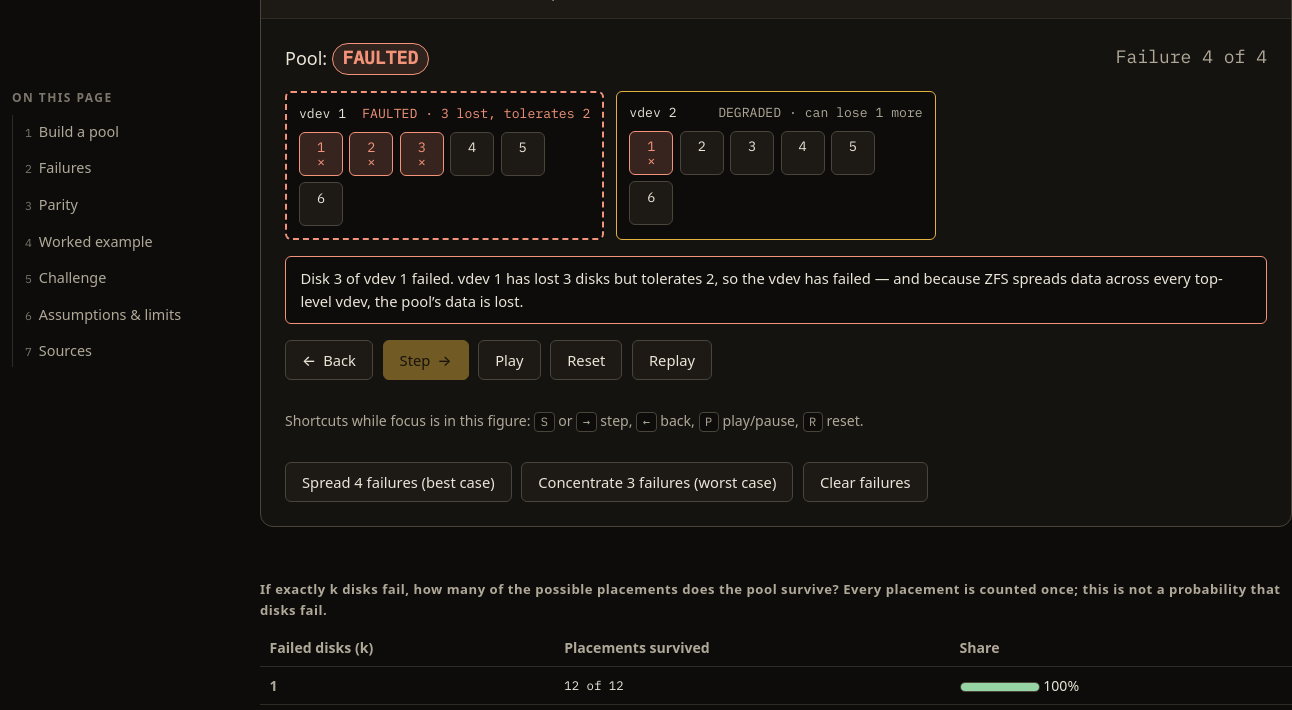
ZFS topology explorer › tracer: step, back, reset and replay through the failure order, with keyboard shortcuts
(page scrolled)
Expected: the text with test id "tracer-step" shows "4 of 4", top-left (1116, 43), bottom-right (1267, 75)
Expected: the text with test id "pool-state" reads "FAULTED", top-left (342, 46), bottom-right (418, 70)
Click the button "Reset" at (586, 360), box top-left (550, 340), bottom-right (622, 380)
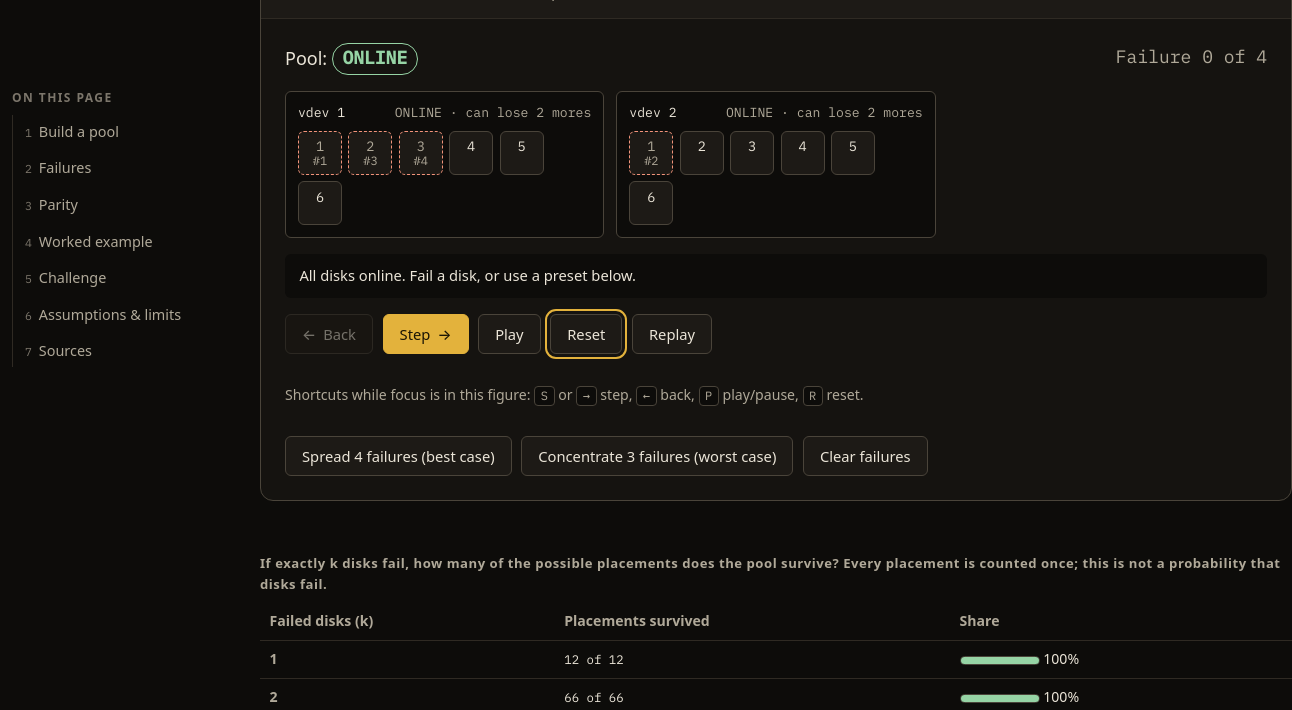
Now the text with test id "tracer-step" shows "0 of 4", box top-left (1116, 43), bottom-right (1267, 75)
Now the text with test id "pool-state" reads "ONLINE", box top-left (342, 46), bottom-right (407, 70)
Click the button "Step →" at (426, 334), box top-left (383, 314), bottom-right (469, 354)
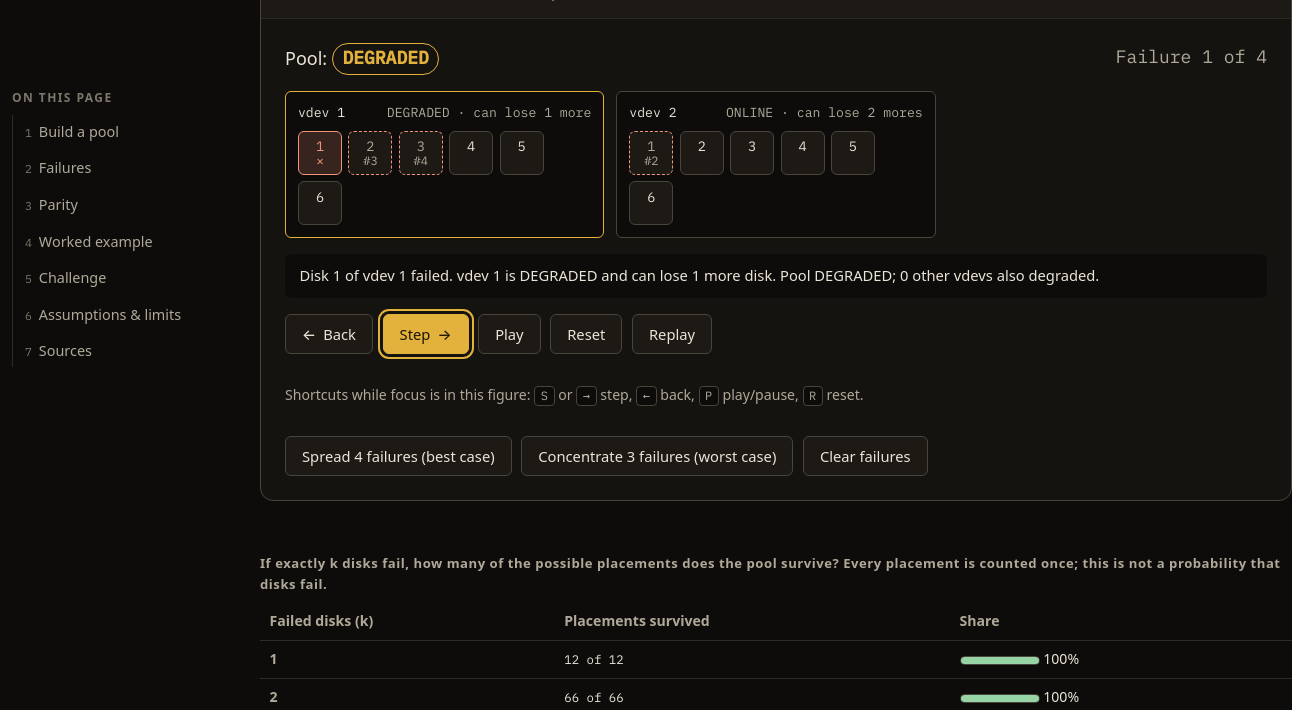
Now the text with test id "tracer-step" shows "1 of 4", box top-left (1116, 43), bottom-right (1267, 75)
Now the text with test id "pool-state" reads "DEGRADED", box top-left (342, 46), bottom-right (429, 70)
Press s in the button "Step →", box top-left (383, 314), bottom-right (469, 354)
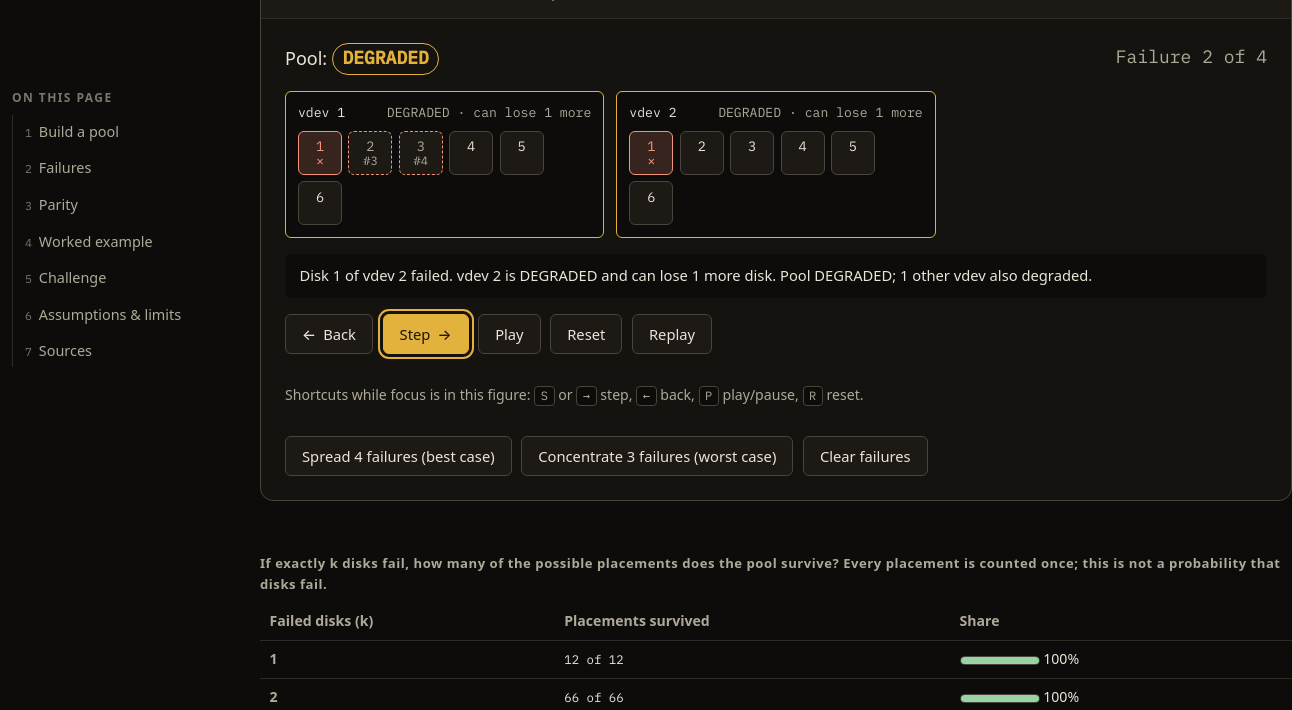
Press s in the button "Step →", box top-left (383, 314), bottom-right (469, 354)
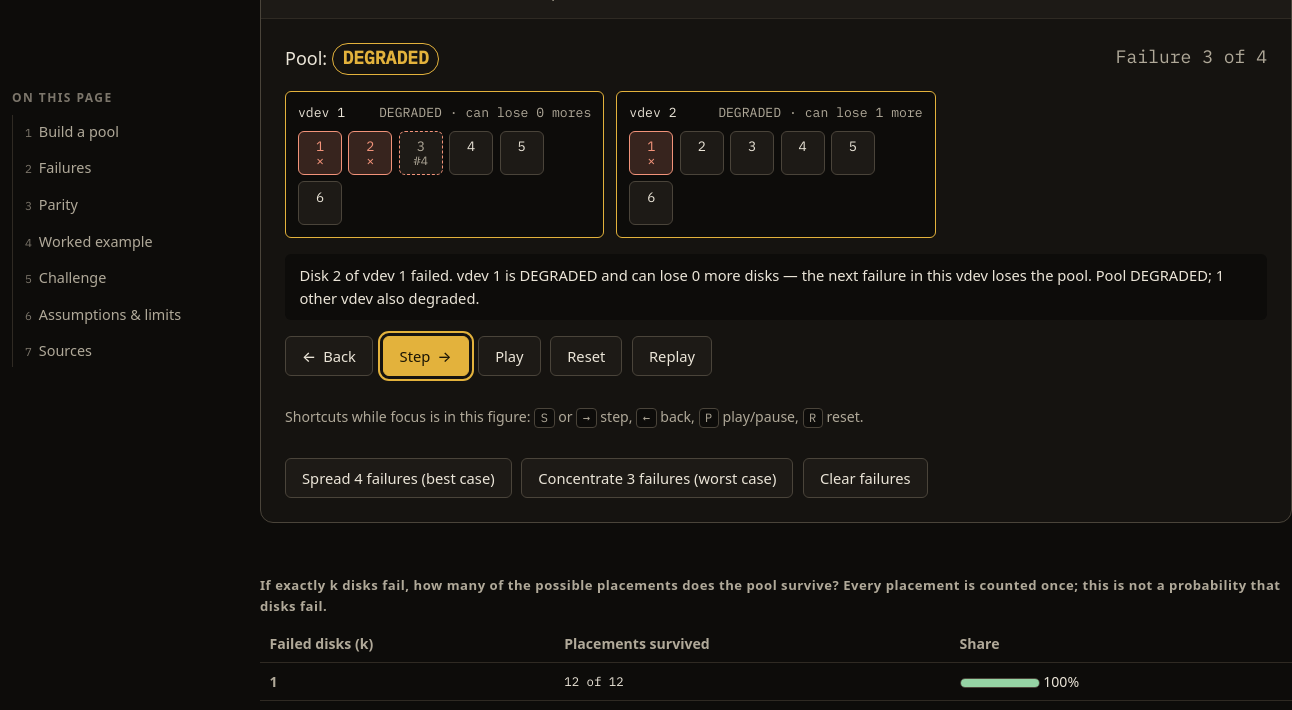
Now the text with test id "pool-state" reads "DEGRADED", box top-left (342, 46), bottom-right (429, 70)
Now the text with test id "tracer-step" shows "3 of 4", box top-left (1116, 43), bottom-right (1267, 75)
Press ArrowLeft in the button "Step →", box top-left (383, 336), bottom-right (469, 376)
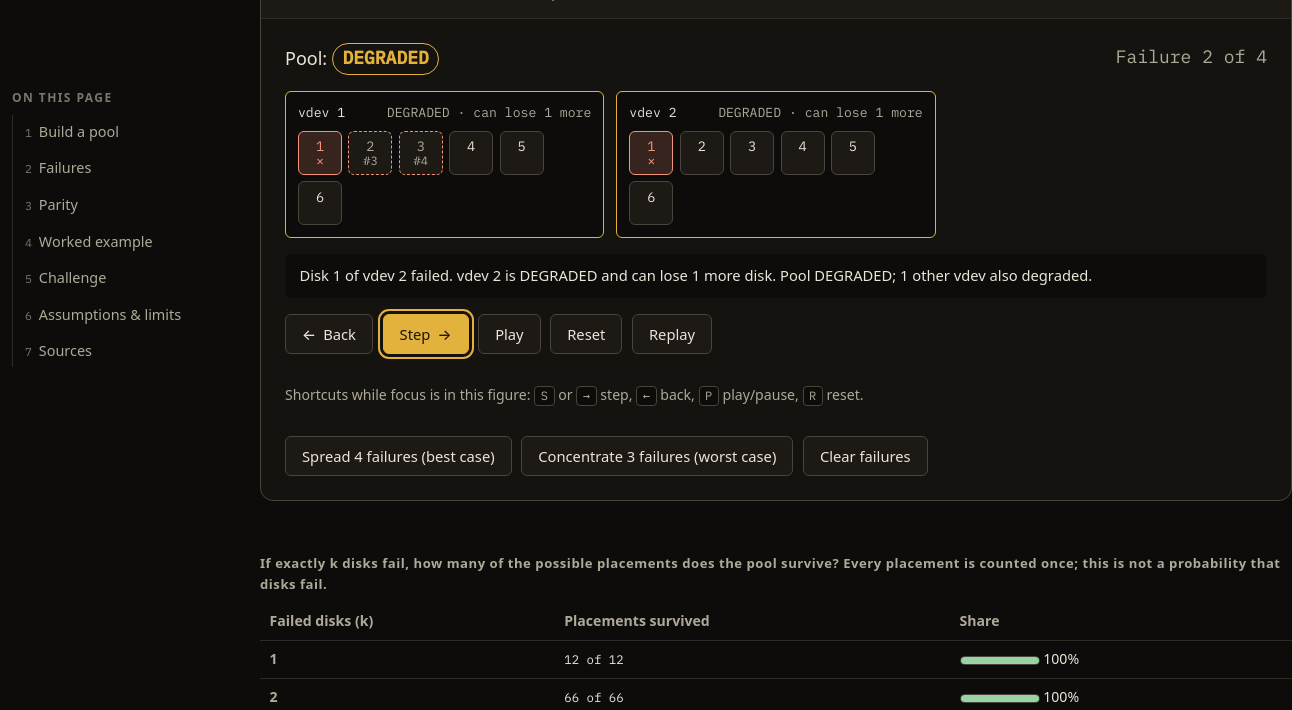
Expected: the button "Replay" is shown, top-left (632, 314), bottom-right (712, 354)
Now the text with test id "tracer-step" shows "2 of 4", box top-left (1116, 43), bottom-right (1267, 75)
